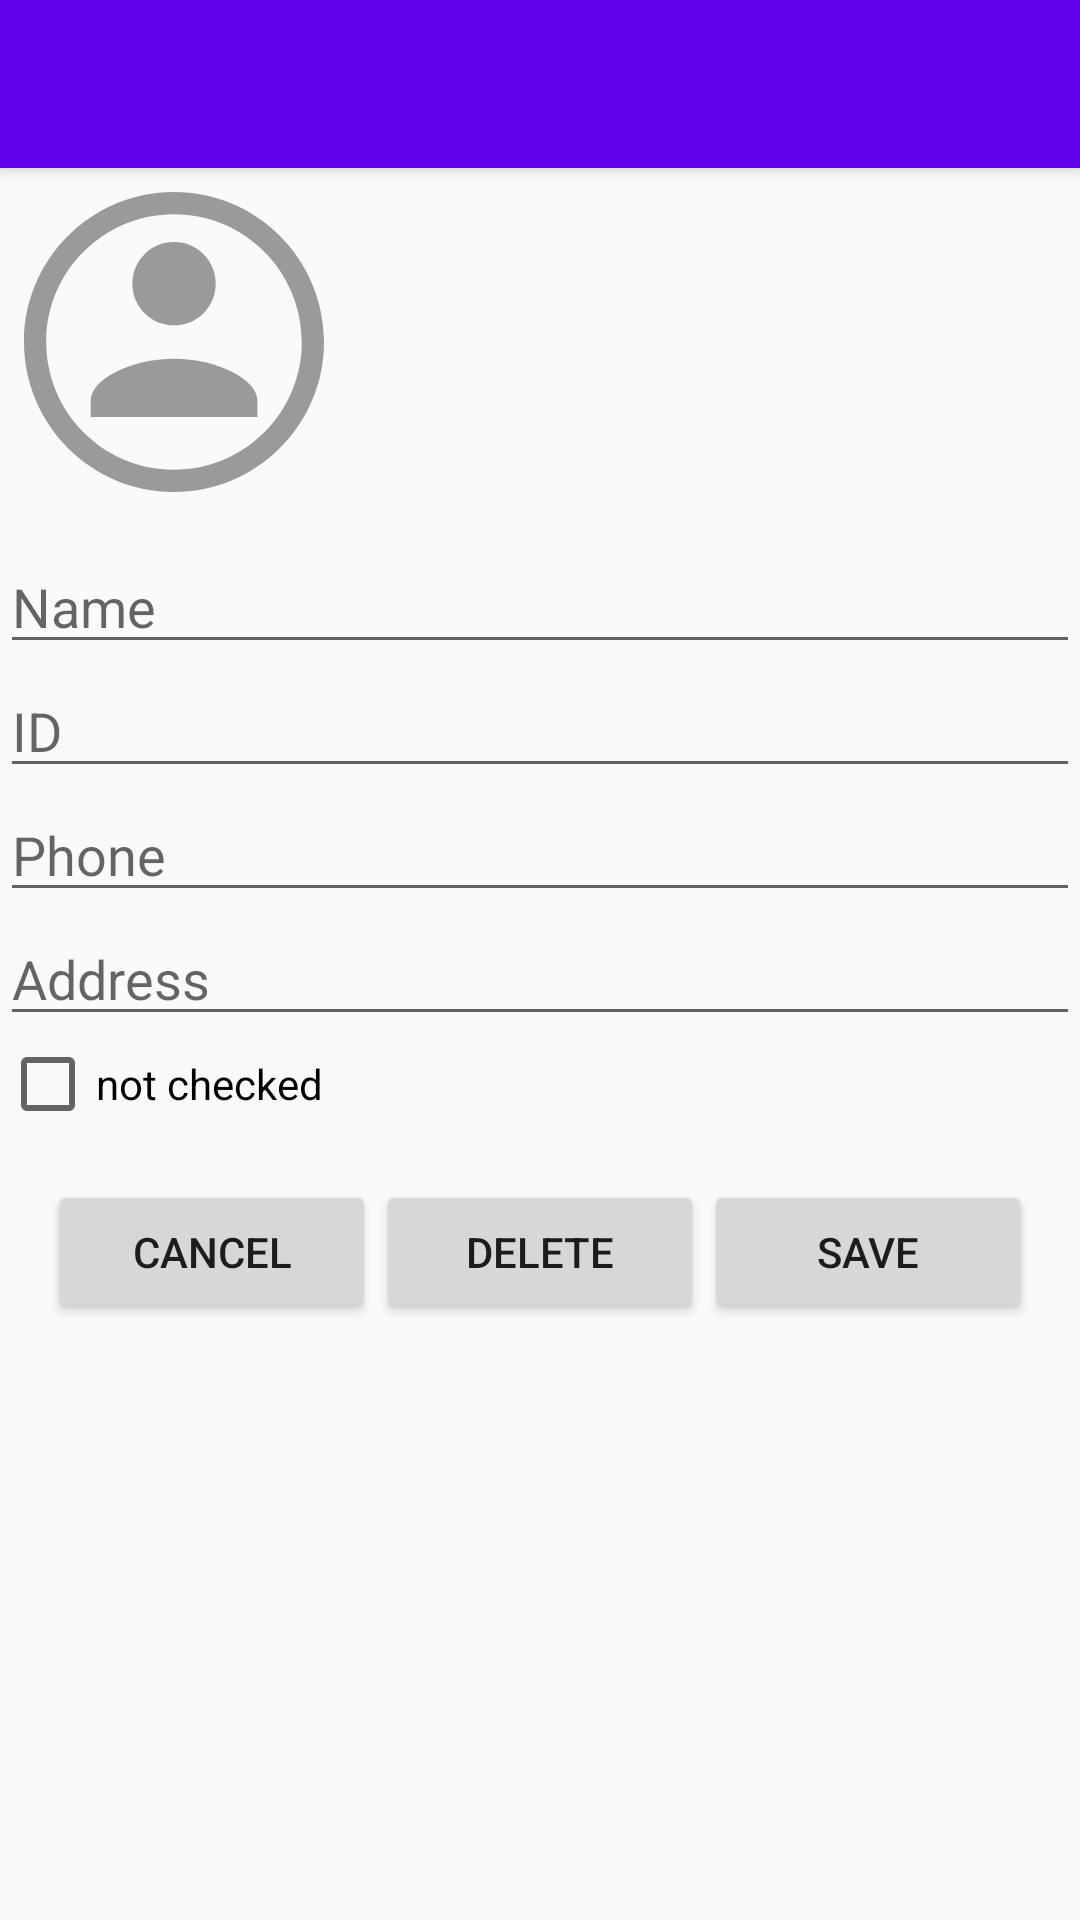

Point at icon controls on the screen. Image size 1080w x 1920h, points as (x=x, y=y).
student: (x=174, y=342)
